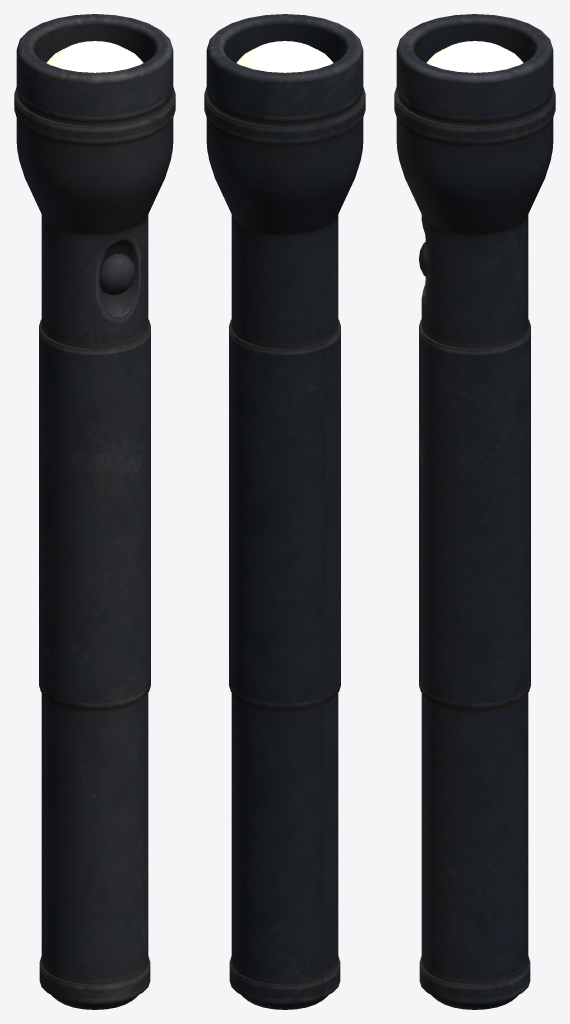
Rendered from flashlight.glb.
The picture shows the model from 3 angles, left to right: view 1: azimuth 30°, elevation 25°; view 2: azimuth 150°, elevation 25°; view 3: azimuth 270°, elevation 25°; orthographic projection.
Parts seen in each view (by area): view 1: flashlight; view 2: flashlight; view 3: flashlight.
Part boxes in pixels (bbox=[...]): flashlight: bbox=[14, 14, 175, 1009]; flashlight: bbox=[204, 14, 365, 1009]; flashlight: bbox=[394, 14, 555, 1009].
Size of the model in its own units: 5.55 by 36.07 by 5.55.
Materials: 1 (1 with a texture image).
